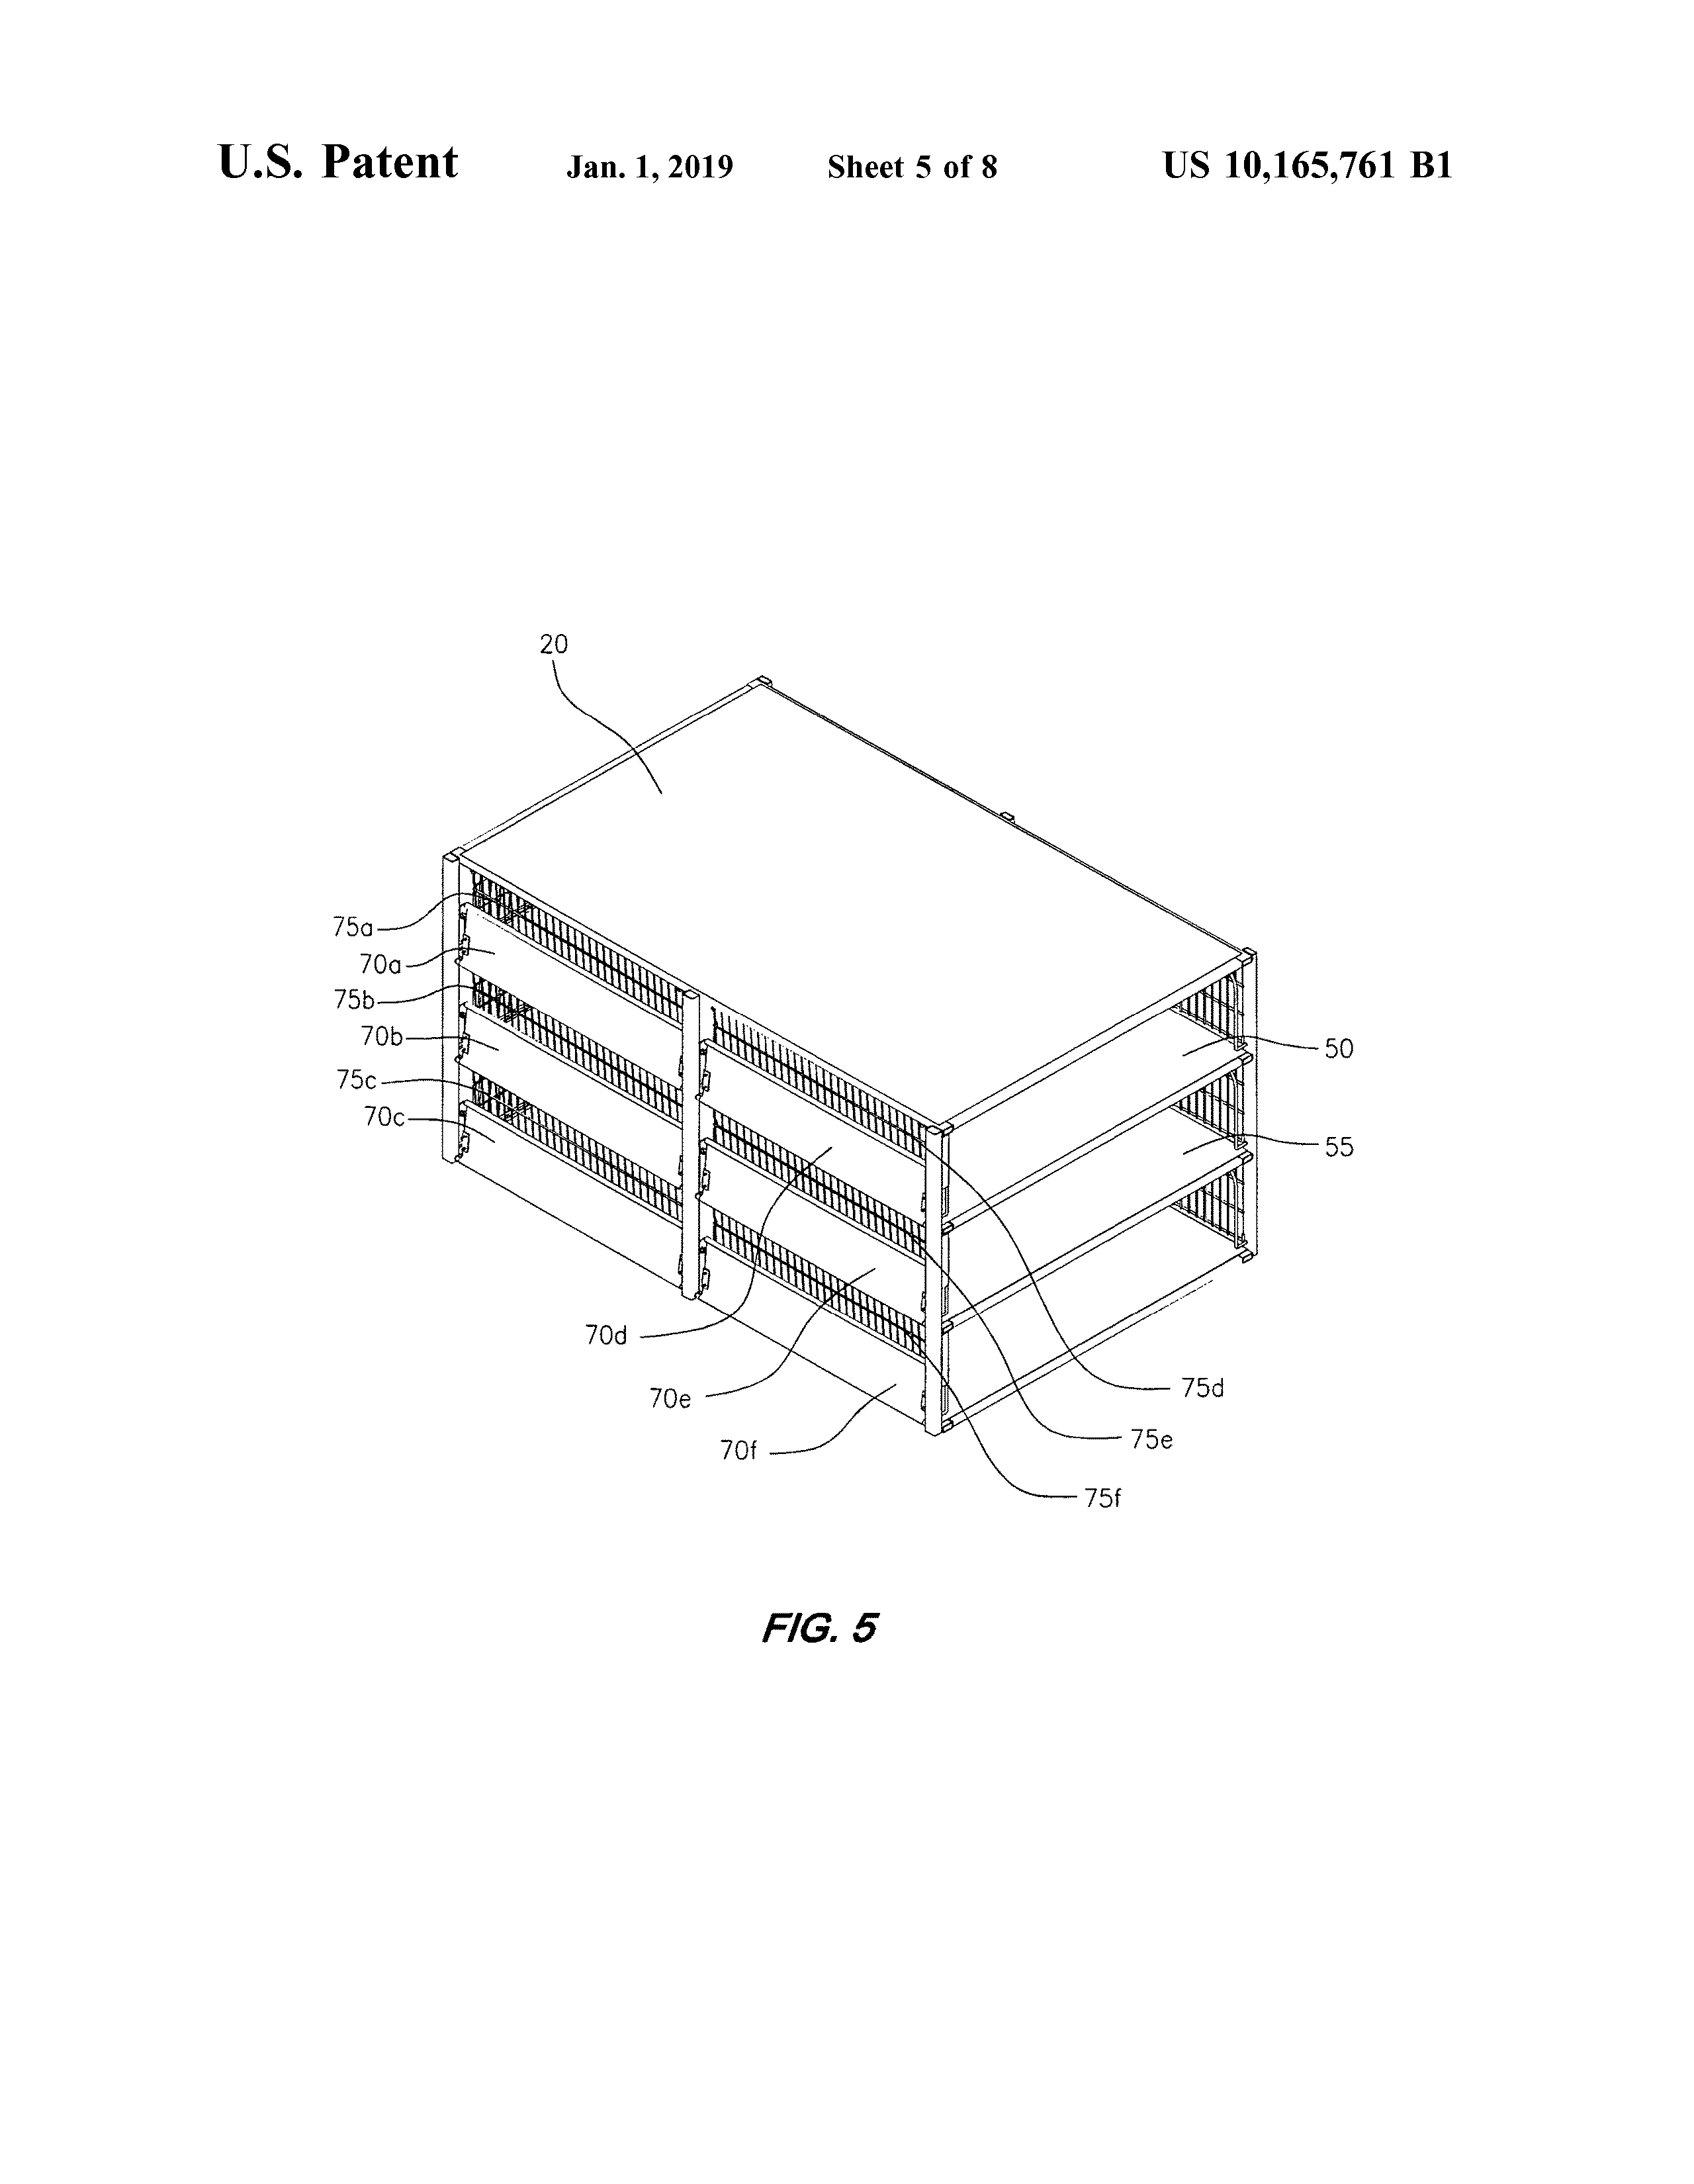patent image: (277, 570, 1419, 1790)
